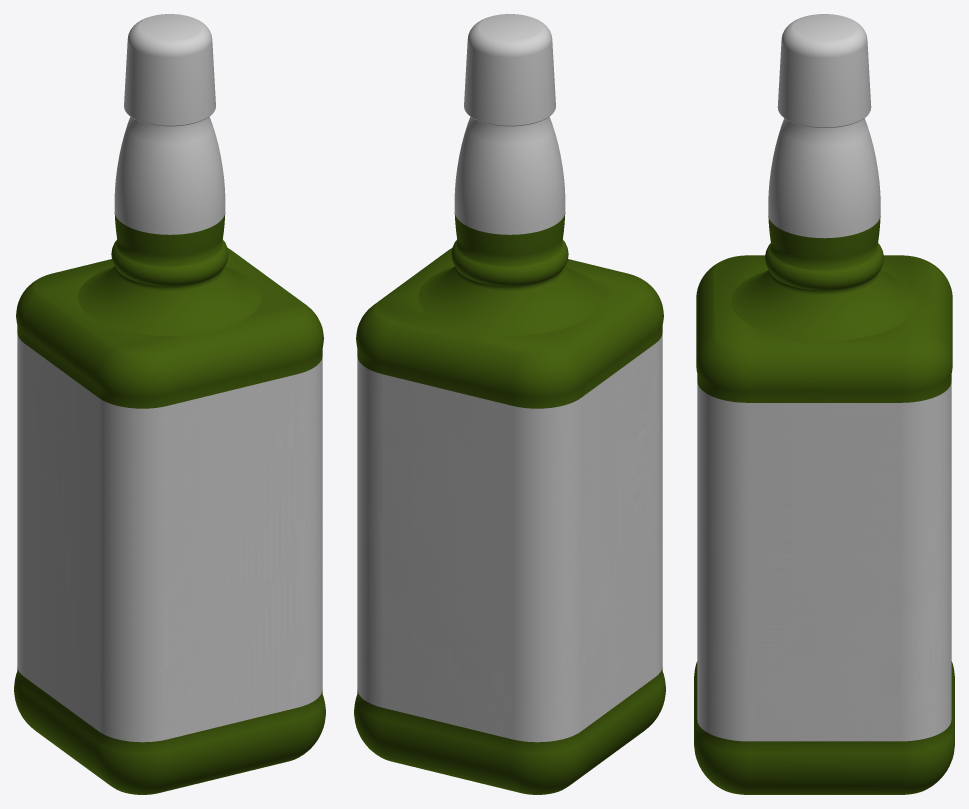
3 views of the same model, side by side, from view 1: azimuth 30°, elevation 25°; view 2: azimuth 150°, elevation 25°; view 3: azimuth 270°, elevation 25° (orthographic).
Visible parts, largest first — view 1: mesh4_mesh4-geometry, mesh5_mesh5-geometry; view 2: mesh4_mesh4-geometry, mesh5_mesh5-geometry; view 3: mesh4_mesh4-geometry, mesh5_mesh5-geometry.
Boxes of the visible parts, x1,y1,x2,y2 form: mesh4_mesh4-geometry: (14, 248, 325, 794); mesh5_mesh5-geometry: (78, 14, 261, 335); mesh4_mesh4-geometry: (354, 248, 665, 794); mesh5_mesh5-geometry: (418, 14, 601, 335); mesh4_mesh4-geometry: (694, 255, 954, 794); mesh5_mesh5-geometry: (731, 14, 917, 340).
Bounding box in the file's own units: 0.2974 × 0.9072 × 0.2974.
